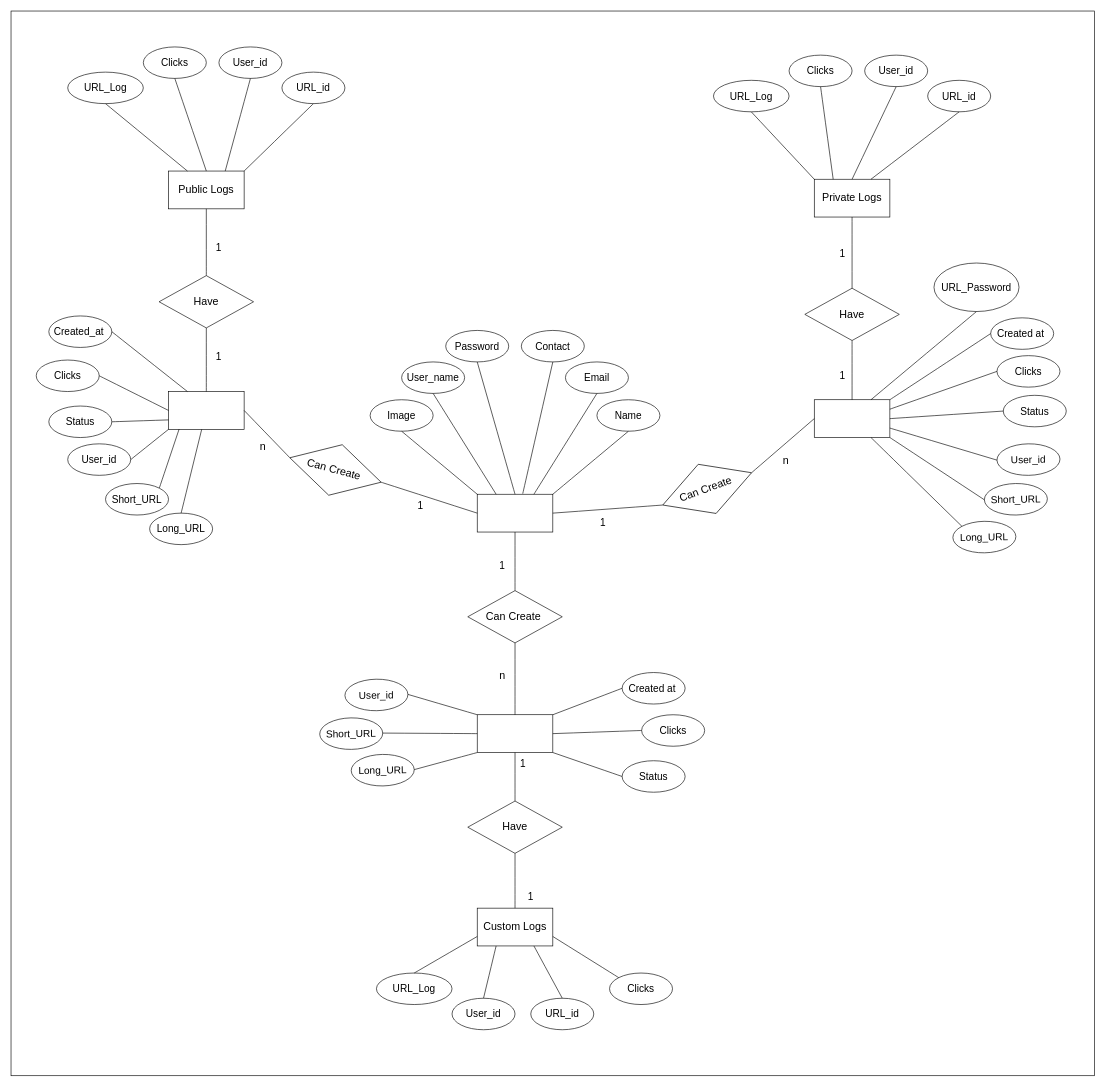
Image size: 1106x1087. Some labels were removed from this diagram. The shapes that lost their labels are listed below. From the top down, each one's centre as x and y in pixels, then its label:
At [206,410]: "Public URL".
At [852,418]: "Private URL".
At [515,513]: "Authenticated User".
At [515,733]: "Custom URL".
